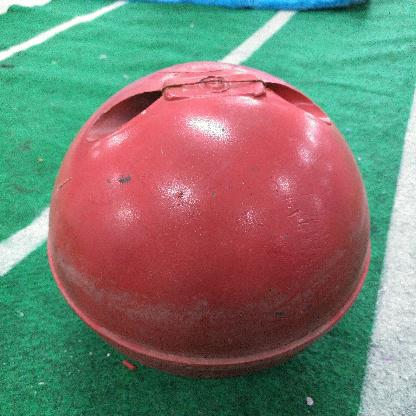red_buoy: (47, 61, 370, 378)
